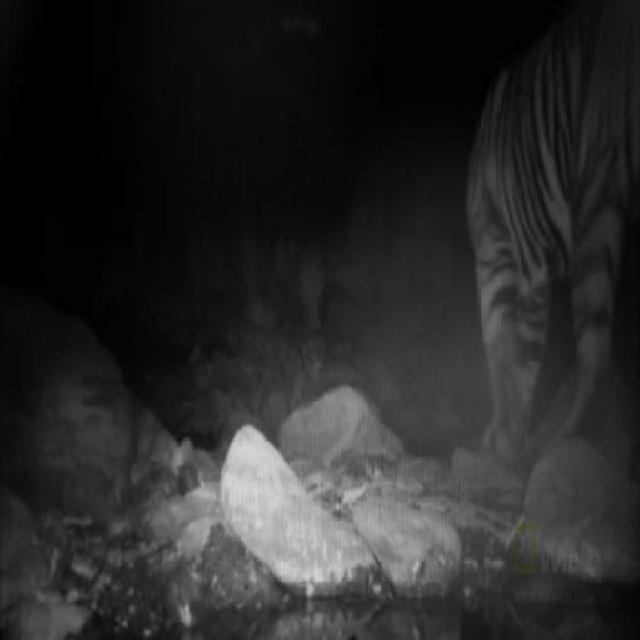Tiger: (447, 1, 639, 458)
